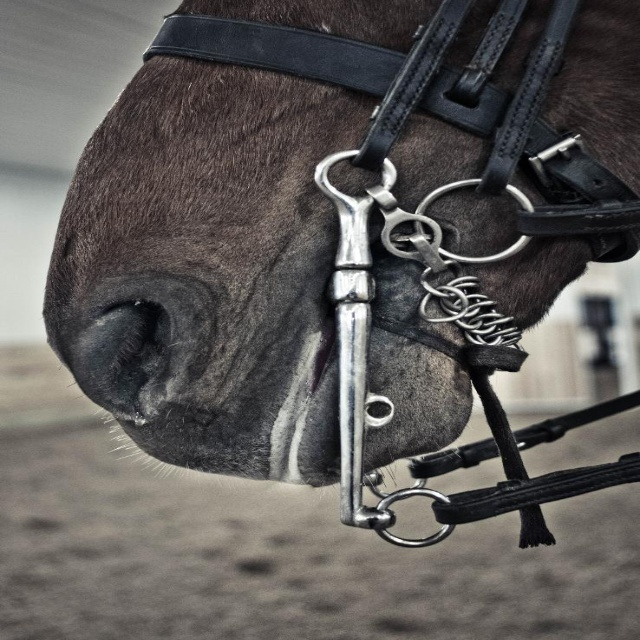Horse: (34, 0, 639, 489)
